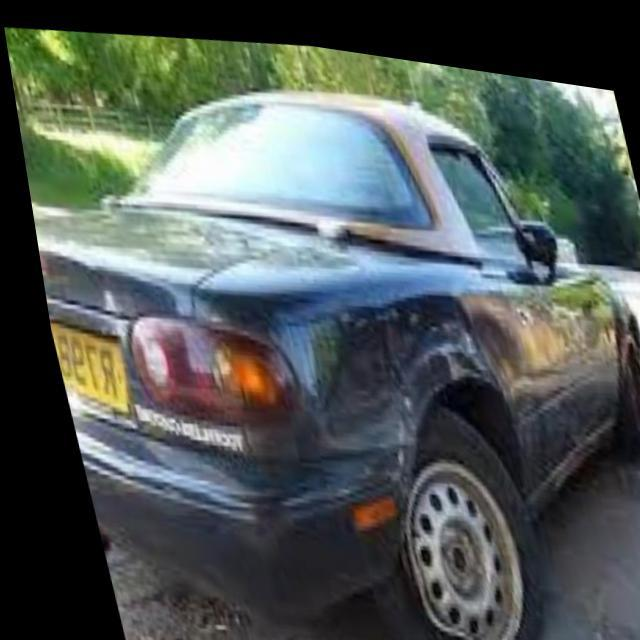dent: (288, 302, 404, 503)
